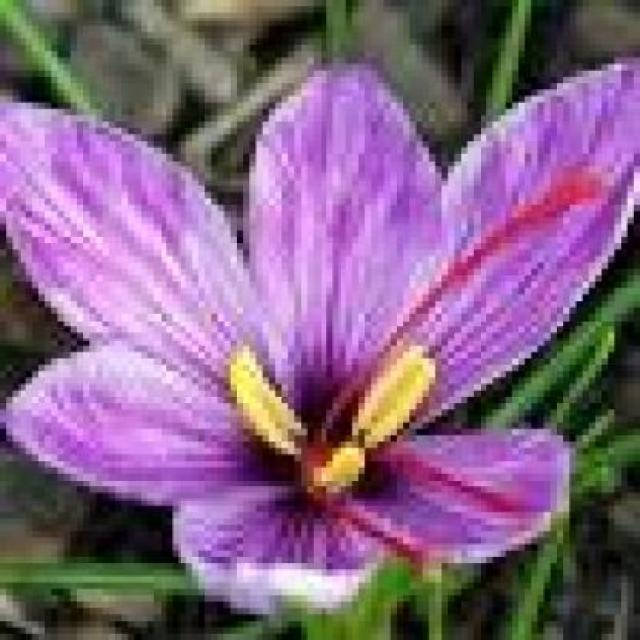Flower: (0, 58, 634, 614)
stigma: (385, 157, 598, 339), (321, 499, 430, 572)
